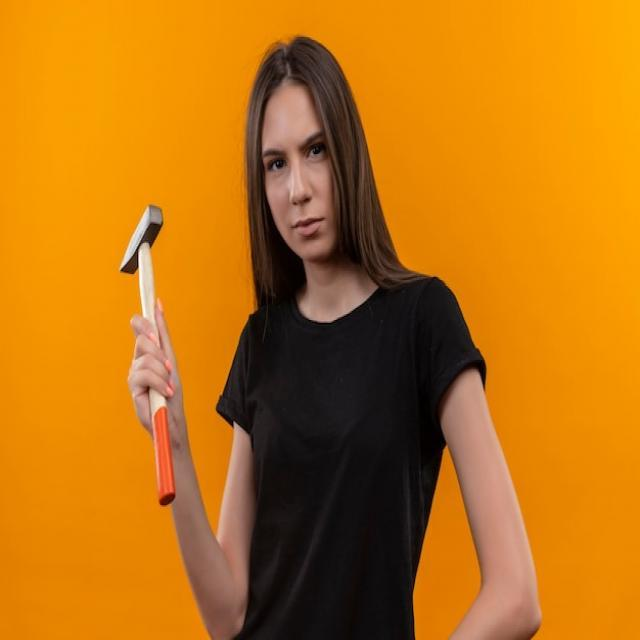hammer: (117, 196, 182, 518)
